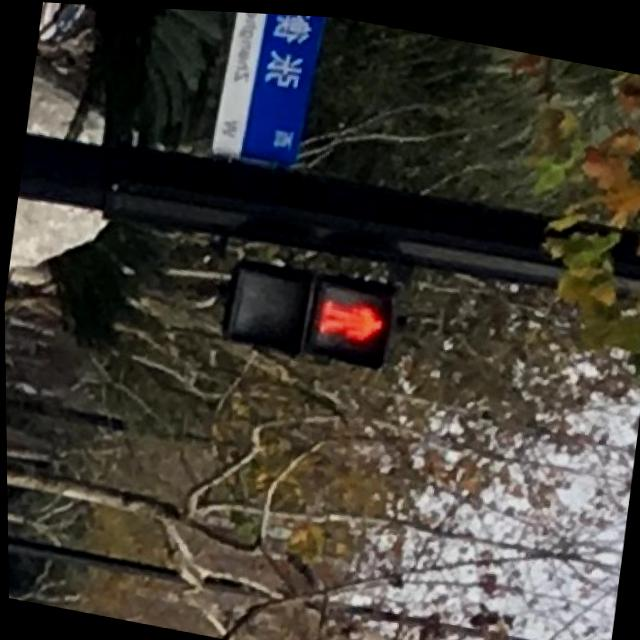red_light: (307, 277, 394, 365)
